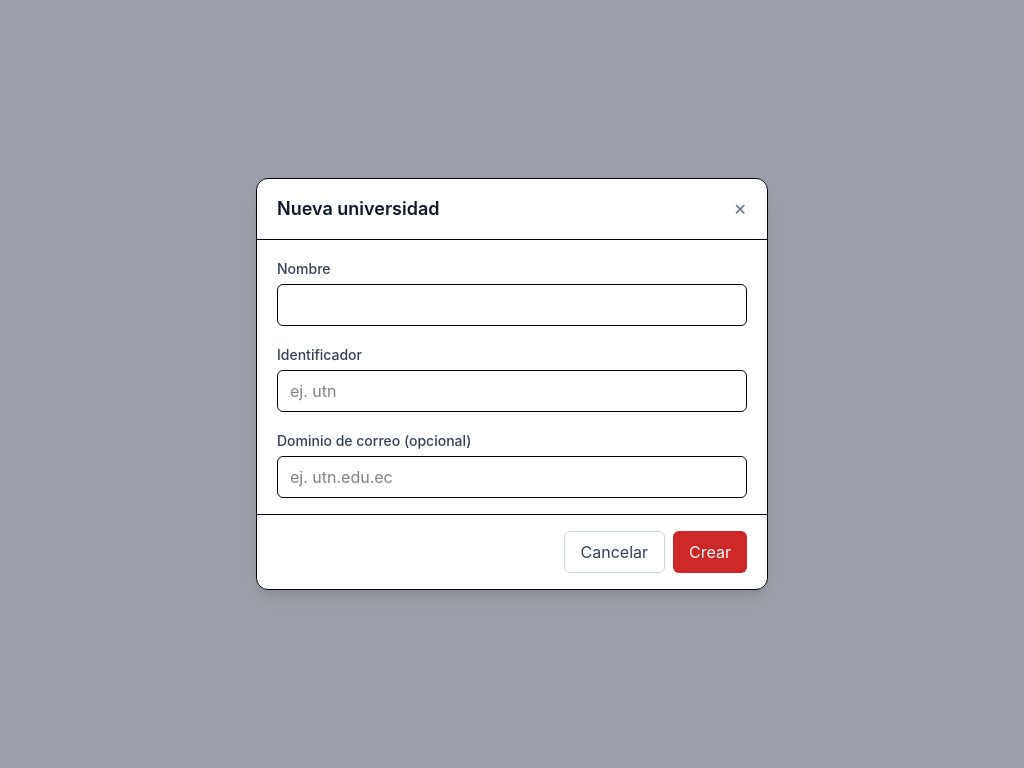
Scenario: UniversityFormDialog › muestra errores cuando nombre y slug están vacíos
The image size is (1024, 768).
Click the button "Crear" at (710, 552), box [673,531,747,573]
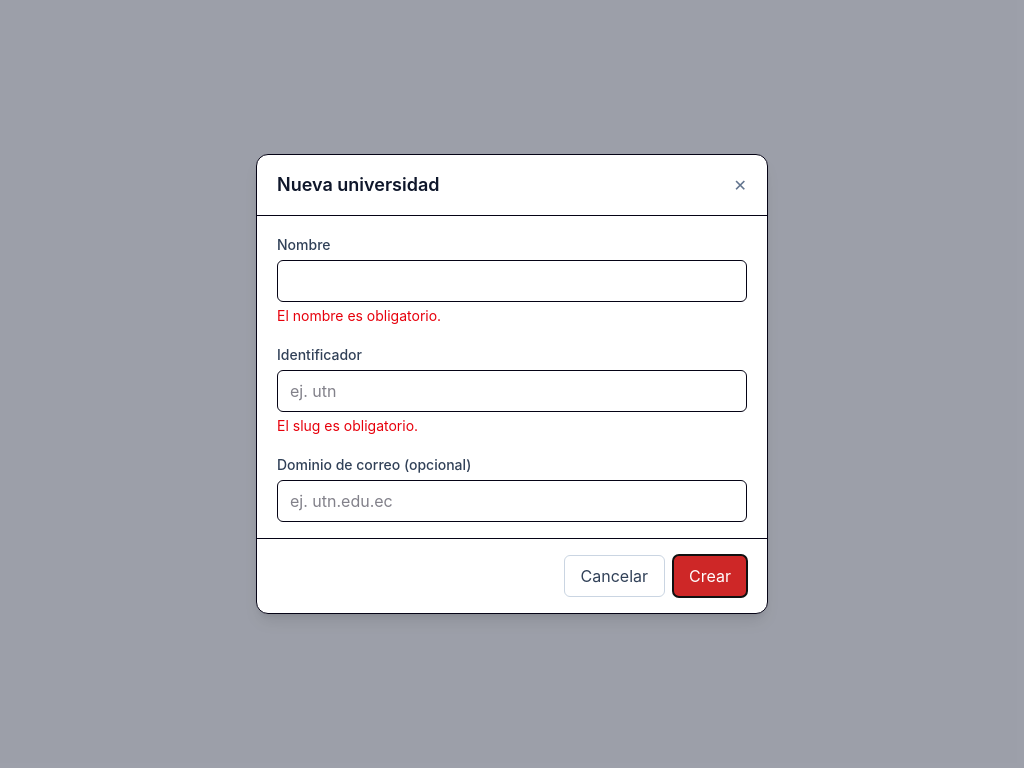
Expected: the text "El nombre es obligatorio." is shown, [277,307,441,324]
Expected: the text "El slug es obligatorio." is shown, [277,417,418,434]
